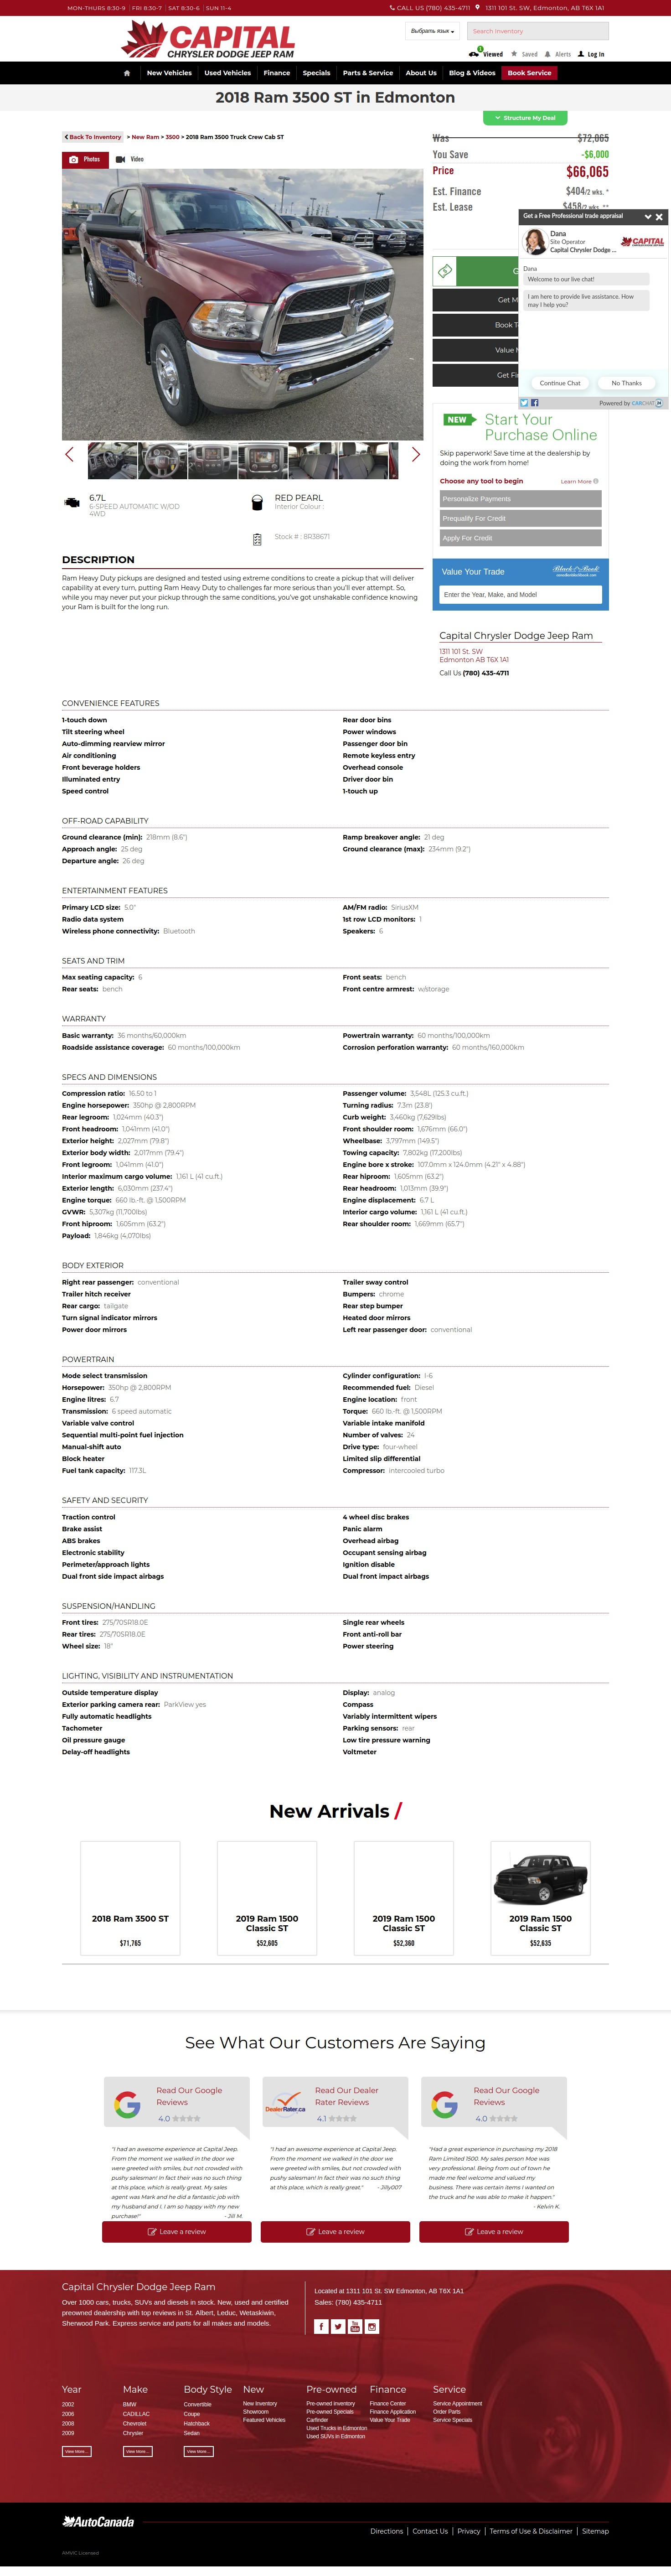car: (410, 445, 423, 465)
